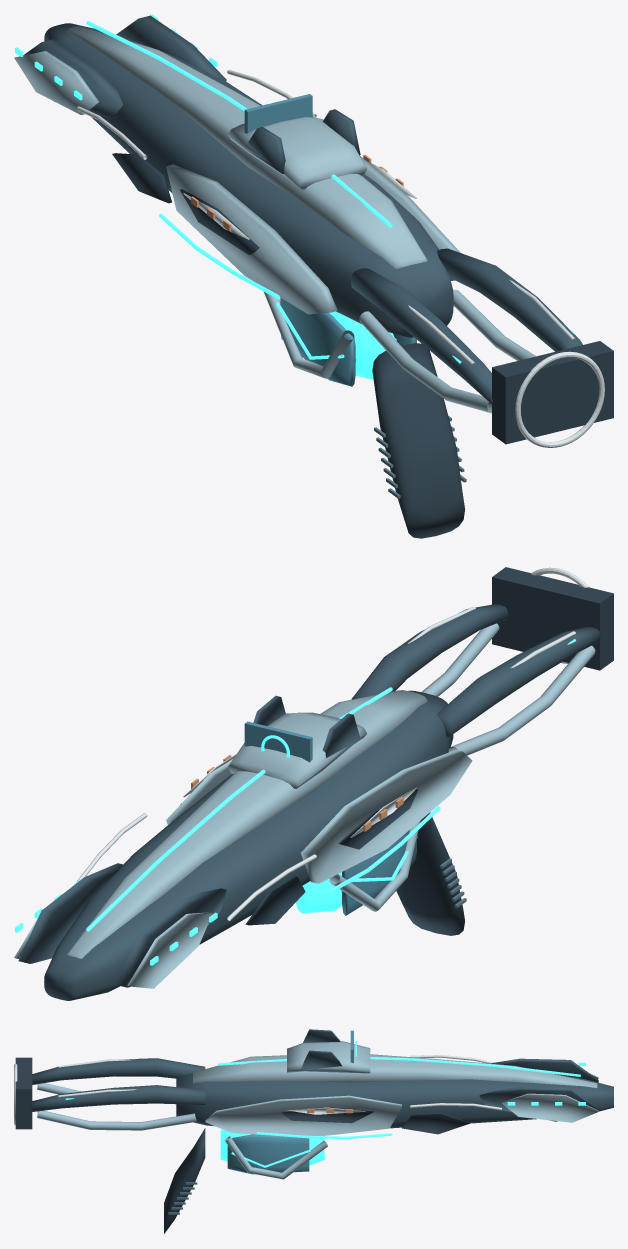
Rendered from aether9-specter-phase1.glb.
3 renders of one model, top to bottom at view 1: azimuth 30°, elevation 25°; view 2: azimuth 150°, elevation 25°; view 3: azimuth 270°, elevation 25°, orthographic. The views are drawn at different scales.
Visible parts, largest first — view 1: A9.SHELL.C.001.01_Ceramic_monocoque_visu, A9.SPINE.C.002.02_Raised_continuous_tita, A9.GRIP.C.032.04_Graphite_handguard_sup, A9.REAR.C.047.05_Rear_ergonomic_polymer, A9.PANELS.L.004.LEFT_Swept_structural_che, A9.VISOR.C.057.09_Integrated_optical_cro, A9.REAR.L.013.LEFT_Monolithic_stock_arc, A9.REAR.R.027.RIGHT_Monolithic_stock_ar, A9.CORE.L.050.08_Laminated_outer_core_g, A9.PANELS.L.068.LEFT_Faceted_floating_pro, A9.REAR.L.014.LEFT_Lower_open_cantileve, A9.PANELS.R.021.RIGHT_Vent_side_aero_fin (+12 smaller); view 2: A9.SHELL.C.001.01_Ceramic_monocoque_visu, A9.SPINE.C.002.02_Raised_continuous_tita, A9.REAR.C.047.05_Rear_ergonomic_polymer, A9.PANELS.L.004.LEFT_Swept_structural_che, A9.REAR.L.013.LEFT_Monolithic_stock_arc, A9.GRIP.C.032.04_Graphite_handguard_sup, A9.REAR.R.027.RIGHT_Monolithic_stock_ar, A9.VISOR.C.057.09_Integrated_optical_cro, A9.PANELS.R.021.RIGHT_Vent_side_aero_fin, A9.PANELS.L.068.LEFT_Faceted_floating_pro, A9.REAR.L.014.LEFT_Lower_open_cantileve, A9.PANELS.L.007.LEFT_Vent_side_aero_fin (+12 smaller); view 3: A9.SHELL.C.001.01_Ceramic_monocoque_visu, A9.SPINE.C.002.02_Raised_continuous_tita, A9.PANELS.R.018.RIGHT_Swept_structural_ch, A9.REAR.R.027.RIGHT_Monolithic_stock_ar, A9.REAR.L.013.LEFT_Monolithic_stock_arc, A9.CORE.R.051.08_Laminated_outer_core_g, A9.PANELS.R.072.RIGHT_Faceted_floating_pr, A9.VISOR.C.057.09_Integrated_optical_cro, A9.GRIP.C.032.04_Graphite_handguard_sup, A9.REAR.R.028.RIGHT_Lower_open_cantilev, A9.REAR.C.047.05_Rear_ergonomic_polymer, A9.PANELS.R.021.RIGHT_Vent_side_aero_fin (+11 smaller).
Part boxes in pixels (box(x1,y1,x2,y2)): A9.SHELL.C.001.01_Ceramic_monocoque_visu: box(44, 23, 453, 337); A9.SPINE.C.002.02_Raised_continuous_tita: box(66, 26, 427, 268); A9.GRIP.C.032.04_Graphite_handguard_sup: box(372, 343, 464, 538); A9.REAR.C.047.05_Rear_ergonomic_polymer: box(492, 341, 613, 444); A9.PANELS.L.004.LEFT_Swept_structural_che: box(166, 164, 337, 314); A9.VISOR.C.057.09_Integrated_optical_cro: box(228, 117, 366, 189); A9.REAR.L.013.LEFT_Monolithic_stock_arc: box(350, 268, 492, 403); A9.REAR.R.027.RIGHT_Monolithic_stock_ar: box(437, 248, 582, 351); A9.CORE.L.050.08_Laminated_outer_core_g: box(280, 297, 355, 386); A9.PANELS.L.068.LEFT_Faceted_floating_pro: box(14, 51, 98, 114); A9.REAR.L.014.LEFT_Lower_open_cantileve: box(359, 311, 491, 413); A9.PANELS.R.021.RIGHT_Vent_side_aero_fin: box(116, 15, 226, 81); A9.SHELL.C.001.01_Ceramic_monocoque_visu: box(44, 690, 453, 1000); A9.SPINE.C.002.02_Raised_continuous_tita: box(67, 690, 427, 958); A9.REAR.C.047.05_Rear_ergonomic_polymer: box(492, 567, 613, 670); A9.PANELS.L.004.LEFT_Swept_structural_che: box(301, 750, 472, 883); A9.REAR.L.013.LEFT_Monolithic_stock_arc: box(437, 626, 601, 737); A9.GRIP.C.032.04_Graphite_handguard_sup: box(396, 812, 464, 935); A9.REAR.R.027.RIGHT_Monolithic_stock_ar: box(351, 604, 507, 699); A9.VISOR.C.057.09_Integrated_optical_cro: box(228, 712, 366, 788); A9.PANELS.R.021.RIGHT_Vent_side_aero_fin: box(18, 863, 123, 963); A9.PANELS.L.068.LEFT_Faceted_floating_pro: box(127, 912, 212, 988); A9.REAR.L.014.LEFT_Lower_open_cantileve: box(448, 645, 595, 755); A9.PANELS.L.007.LEFT_Vent_side_aero_fin: box(115, 888, 226, 987); A9.SHELL.C.001.01_Ceramic_monocoque_visu: box(176, 1073, 613, 1128); A9.SPINE.C.002.02_Raised_continuous_tita: box(193, 1054, 597, 1088); A9.PANELS.R.018.RIGHT_Swept_structural_ch: box(205, 1095, 401, 1135); A9.REAR.R.027.RIGHT_Monolithic_stock_ar: box(31, 1085, 205, 1111); A9.REAR.L.013.LEFT_Monolithic_stock_arc: box(32, 1058, 205, 1084); A9.CORE.R.051.08_Laminated_outer_core_g: box(227, 1134, 309, 1174); A9.PANELS.R.072.RIGHT_Faceted_floating_pr: box(501, 1093, 598, 1122); A9.VISOR.C.057.09_Integrated_optical_cro: box(287, 1041, 370, 1073); A9.GRIP.C.032.04_Graphite_handguard_sup: box(164, 1128, 205, 1233); A9.REAR.R.028.RIGHT_Lower_open_cantilev: box(37, 1110, 196, 1130); A9.REAR.C.047.05_Rear_ergonomic_polymer: box(15, 1057, 32, 1129); A9.PANELS.R.021.RIGHT_Vent_side_aero_fin: box(479, 1087, 598, 1121).
Size of the model in its own units: 0.8735 by 1.52 by 4.33.
